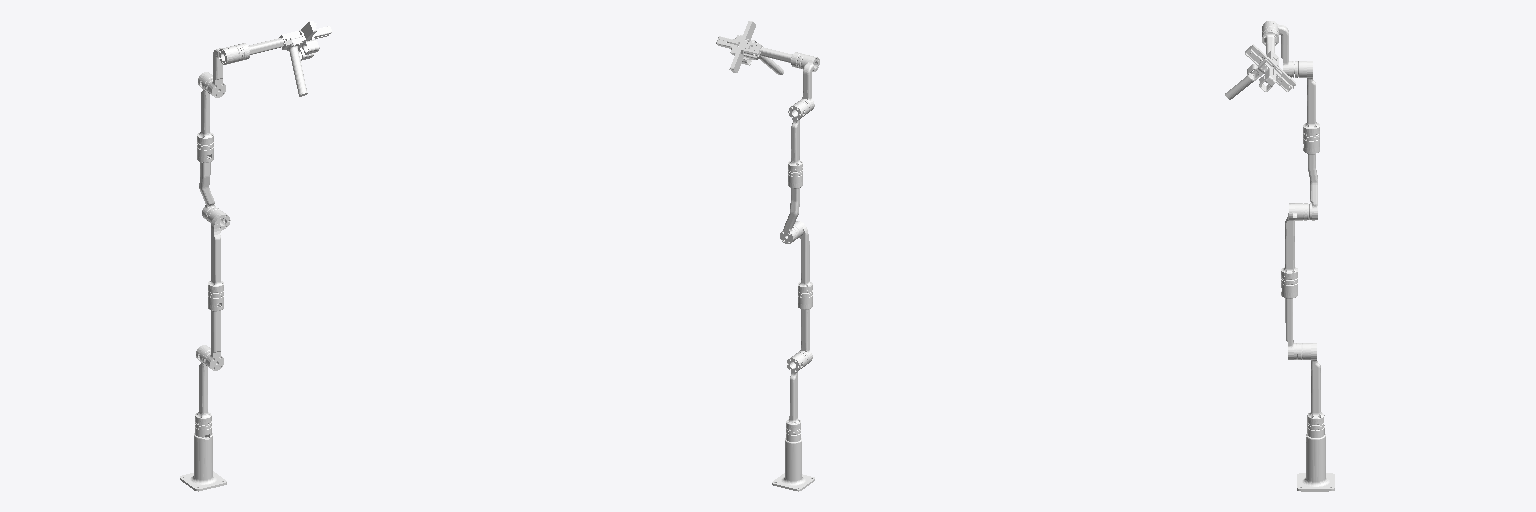
robot.urdf — RizonExoUrdf:
<?xml version="1.0" encoding="utf-8"?>
<!-- This URDF was automatically created by SolidWorks to URDF Exporter! Originally created by Stephen Brawner ([email redacted]) 
     Commit Version: 1.6.0-4-g7f85cfe  Build Version: 1.6.7995.38578
     For more information, please see http://wiki.ros.org/sw_urdf_exporter -->
<robot
  name="RizonExoUrdf">
  <link name="base">
  </link>
  <joint name="joint_base" type="fixed">
    <origin xyz="0 0 0.13" rpy="-1.57 0 0" />
    <parent link="base" />
    <child link="link0" />
  </joint>
  <link
    name="link0">
    <inertial>
      <origin
        xyz="2.68200551026861E-08 0.000106676724616968 -0.0638192793343108"
        rpy="0 0 0" />
      <mass
        value="0.182411240251965" />
      <inertia
        ixx="0.000395353752981981"
        ixy="4.50653842847635E-14"
        ixz="1.13205212799903E-11"
        iyy="0.000395709990389866"
        iyz="-9.93415251424643E-07"
        izz="0.000136880153187346" />
    </inertial>
    <visual>
      <origin
        xyz="0 0 0"
        rpy="0 0 0" />
      <geometry>
        <mesh
          filename="meshes/link0.STL" />
      </geometry>
      <material
        name="">
        <color
          rgba="1 1 1 1" />
      </material>
    </visual>
    <collision>
      <origin
        xyz="0 0 0"
        rpy="0 0 0" />
      <geometry>
        <mesh
          filename="meshes/link0.STL" />
      </geometry>
    </collision>
  </link>
  <link
    name="link1">
    <inertial>
      <origin
        xyz="0.000174797383000338 -0.00846910131823738 0.11429883924288"
        rpy="0 0 0" />
      <mass
        value="0.0976600993145109" />
      <inertia
        ixx="0.000282521753293383"
        ixy="-3.87265920561865E-08"
        ixz="-1.07606334537938E-06"
        iyy="0.000285882546445753"
        iyz="6.10333330224454E-06"
        izz="1.71048291210705E-05" />
    </inertial>
    <visual>
      <origin
        xyz="0 0 0"
        rpy="0 0 0" />
      <geometry>
        <mesh
          filename="meshes/link1.STL" />
      </geometry>
      <material
        name="">
        <color
          rgba="1 1 1 1" />
      </material>
    </visual>
    <collision>
      <origin
        xyz="0 0 0"
        rpy="0 0 0" />
      <geometry>
        <mesh
          filename="meshes/link1.STL" />
      </geometry>
    </collision>
  </link>
  <joint
    name="joint1"
    type="revolute">
    <origin
      xyz="0 -0.036 0"
      rpy="1.5708 0 0" />
    <parent
      link="link0" />
    <child
      link="link1" />
    <axis
      xyz="0 0 1" />
    <limit
      lower="-6.28"
      upper="6.28"
      effort="0"
      velocity="0" />
  </joint>
  <link
    name="link2">
    <inertial>
      <origin
        xyz="4.02592621771169E-05 -0.0944303469440703 0.00347301871005043"
        rpy="0 0 0" />
      <mass
        value="0.108676760172211" />
      <inertia
        ixx="0.000286108085402698"
        ixy="-1.07786271036429E-10"
        ixz="3.60821946429029E-09"
        iyy="1.99987033751136E-05"
        iyz="-2.11212657988782E-06"
        izz="0.00029057380281077" />
    </inertial>
    <visual>
      <origin
        xyz="0 0 0"
        rpy="0 0 0" />
      <geometry>
        <mesh
          filename="meshes/link2.STL" />
      </geometry>
      <material
        name="">
        <color
          rgba="1 1 1 1" />
      </material>
    </visual>
    <collision>
      <origin
        xyz="0 0 0"
        rpy="0 0 0" />
      <geometry>
        <mesh
          filename="meshes/link2.STL" />
      </geometry>
    </collision>
  </link>
  <joint
    name="joint2"
    type="revolute">
    <origin
      xyz="0 -0.066 0.199"
      rpy="-1.5708 0 0" />
    <parent
      link="link1" />
    <child
      link="link2" />
    <axis
      xyz="0 0 -1" />
    <limit
      lower="-6.28"
      upper="6.28"
      effort="0"
      velocity="0" />
  </joint>
  <link
    name="link3">
    <inertial>
      <origin
        xyz="0.00740255341256731 0.00825598243206437 0.114050690524624"
        rpy="0 0 0" />
      <mass
        value="0.102877317774525" />
      <inertia
        ixx="0.000288801733225621"
        ixy="-7.89521096057549E-07"
        ixz="-2.02212778424194E-05"
        iyy="0.000295758769421243"
        iyz="-6.53638060308554E-06"
        izz="2.12132720400365E-05" />
    </inertial>
    <visual>
      <origin
        xyz="0 0 0"
        rpy="0 0 0" />
      <geometry>
        <mesh
          filename="meshes/link3.STL" />
      </geometry>
      <material
        name="">
        <color
          rgba="1 1 1 1" />
      </material>
    </visual>
    <collision>
      <origin
        xyz="0 0 0"
        rpy="0 0 0" />
      <geometry>
        <mesh
          filename="meshes/link3.STL" />
      </geometry>
    </collision>
  </link>
  <joint
    name="joint3"
    type="revolute">
    <origin
      xyz="0 -0.202 0.001"
      rpy="1.5708 0 0" />
    <parent
      link="link2" />
    <child
      link="link3" />
    <axis
      xyz="0 0 1" />
    <limit
      lower="-6.28"
      upper="6.28"
      effort="0"
      velocity="0" />
  </joint>
  <link
    name="link4">
    <inertial>
      <origin
        xyz="-0.0964777485988572 -0.0124461853904571 -0.0138959325363483"
        rpy="0 0 0" />
      <mass
        value="0.109531333157228" />
      <inertia
        ixx="2.63854294610928E-05"
        ixy="-3.66846163254211E-05"
        ixz="1.44201161801887E-05"
        iyy="0.000299476184185352"
        iyz="1.86293487607806E-06"
        izz="0.0003088316173526" />
    </inertial>
    <visual>
      <origin
        xyz="0 0 0"
        rpy="0 0 0" />
      <geometry>
        <mesh
          filename="meshes/link4.STL" />
      </geometry>
      <material
        name="">
        <color
          rgba="1 1 1 1" />
      </material>
    </visual>
    <collision>
      <origin
        xyz="0 0 0"
        rpy="0 0 0" />
      <geometry>
        <mesh
          filename="meshes/link4.STL" />
      </geometry>
    </collision>
  </link>
  <joint
    name="joint4"
    type="revolute">
    <origin
      xyz="0.02 0.043 0.193"
      rpy="1.5708 1.5708 0" />
    <parent
      link="link3" />
    <child
      link="link4" />
    <axis
      xyz="0 0 -1" />
    <limit
      lower="-6.28"
      upper="6.28"
      effort="0"
      velocity="0" />
  </joint>
  <link
    name="link5">
    <inertial>
      <origin
        xyz="-0.000181930861000866 -0.00881506501024702 -0.0806919657136297"
        rpy="0 0 0" />
      <mass
        value="0.093827257221074" />
      <inertia
        ixx="0.000218185810656794"
        ixy="3.97227821333258E-08"
        ixz="-9.603511166651E-07"
        iyy="0.000221642643606829"
        iyz="-5.40724698429645E-06"
        izz="1.67226159670737E-05" />
    </inertial>
    <visual>
      <origin
        xyz="0 0 0"
        rpy="0 0 0" />
      <geometry>
        <mesh
          filename="meshes/link5.STL" />
      </geometry>
      <material
        name="">
        <color
          rgba="1 1 1 1" />
      </material>
    </visual>
    <collision>
      <origin
        xyz="0 0 0"
        rpy="0 0 0" />
      <geometry>
        <mesh
          filename="meshes/link5.STL" />
      </geometry>
    </collision>
  </link>
  <joint
    name="joint5"
    type="revolute">
    <origin
      xyz="-0.229 -0.02 -0.012"
      rpy="-1.5708 0 -1.5708" />
    <parent
      link="link4" />
    <child
      link="link5" />
    <axis
      xyz="0 0 -1" />
    <limit
      lower="-6.28"
      upper="6.28"
      effort="0"
      velocity="0" />
  </joint>
  <link
    name="link6">
    <inertial>
      <origin
        xyz="-0.0619945563259994 0.00652224689373675 0.0347445307434046"
        rpy="0 0 0" />
      <mass
        value="0.098962913349432" />
      <inertia
        ixx="2.87742819530896E-05"
        ixy="-2.26211716139533E-07"
        ixz="3.03112306763812E-05"
        iyy="0.0001556163606753"
        iyz="3.82953084777681E-08"
        izz="0.000141082630235206" />
    </inertial>
    <visual>
      <origin
        xyz="0 0 0"
        rpy="0 0 0" />
      <geometry>
        <mesh
          filename="meshes/link6.STL" />
      </geometry>
      <material
        name="">
        <color
          rgba="1 1 1 1" />
      </material>
    </visual>
    <collision>
      <origin
        xyz="0 0 0"
        rpy="0 0 0" />
      <geometry>
        <mesh
          filename="meshes/link6.STL" />
      </geometry>
    </collision>
  </link>
  <joint
    name="joint6"
    type="revolute">
    <origin
      xyz="0 -0.043 -0.156"
      rpy="1.5708 -1.5708 0" />
    <parent
      link="link5" />
    <child
      link="link6" />
    <axis
      xyz="0 0 1" />
    <limit
      lower="-6.28"
      upper="6.28"
      effort="0"
      velocity="0" />
  </joint>
  <link
    name="link7">
    <inertial>
      <origin
        xyz="-0.0138653726579842 0.0138498119803521 -0.1245746652355"
        rpy="0 0 0" />
      <mass
        value="0.280967319214148" />
      <inertia
        ixx="0.000292072503410544"
        ixy="2.34209266592734E-05"
        ixz="2.88942090441479E-05"
        iyy="0.000290936397249979"
        iyz="-2.88976162783607E-05"
        izz="0.000225367799856394" />
    </inertial>
    <visual>
      <origin
        xyz="0 0 0"
        rpy="0 0 0" />
      <geometry>
        <mesh
          filename="meshes/link7.STL" />
      </geometry>
      <material
        name="">
        <color
          rgba="1 1 1 1" />
      </material>
    </visual>
    <collision>
      <origin
        xyz="0 0 0"
        rpy="0 0 0" />
      <geometry>
        <mesh
          filename="meshes/link7.STL" />
      </geometry>
    </collision>
  </link>
  <joint
    name="joint7"
    type="revolute">
    <origin
      xyz="-0.11 0.0615 0.06"
      rpy="1.5708 1.5708 0" />
    <parent
      link="link6" />
    <child
      link="link7" />
    <axis
      xyz="0 0 -1" />
    <limit
      lower="-6.28"
      upper="6.28"
      effort="0"
      velocity="0" />
  </joint>
</robot>

--- Render facts (derived) ---
Views: 3 orthographic renders of the robot side by side, from view 1: azimuth 30°, elevation 25°; view 2: azimuth 150°, elevation 25°; view 3: azimuth 270°, elevation 25°.
Model RizonExoUrdf with 9 links and 8 joints (7 revolute, 1 fixed), rooted at base, posed every joint at zero.
Links seen in each view (by area): view 1: link7, link0, link3, link2, link6, link1, link4, link5; view 2: link7, link0, link1, link5, link4, link3, link2, link6; view 3: link7, link0, link1, link3, link5, link4, link2, link6.
Boxes of the visible links, x1,y1,x2,y2 form: link7: (238,21,331,96); link0: (180,424,226,491); link3: (207,208,230,294); link2: (205,293,223,370); link6: (207,45,241,97); link1: (195,345,211,426); link4: (197,144,218,221); link5: (197,72,213,146); link7: (716,21,801,74); link0: (772,430,814,491); link1: (786,352,807,431); link5: (788,100,809,173); link4: (780,172,802,243); link3: (793,221,812,294); link2: (798,293,812,363); link6: (798,54,819,111); link7: (1225,28,1295,99); link0: (1297,424,1334,491); link1: (1299,343,1324,426); link3: (1281,203,1306,281); link5: (1295,61,1319,137); link4: (1303,135,1319,220); link2: (1281,279,1298,359); link6: (1262,21,1294,77).
Size in the robot's own frame: 0.359 by 0.2753 by 1.32 metres.
8 mesh visuals loaded from 8 distinct referenced files (8 binary STL).
